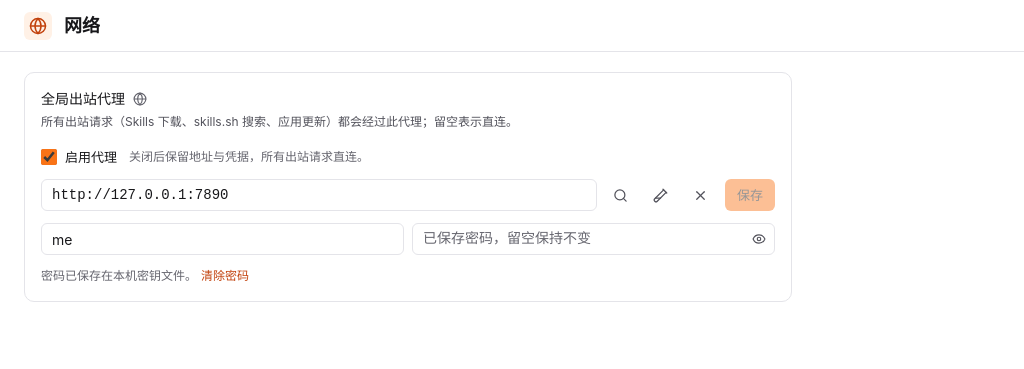
Test: loads the saved proxy and keeps the stored password when saving
Expected: the field named "用户名（可选）" holds "me", [41,223,404,255]
Replace the text in the field named "代理地址" with "http://127.0.0.1:7891" at (319, 195), box [41,179,597,211]
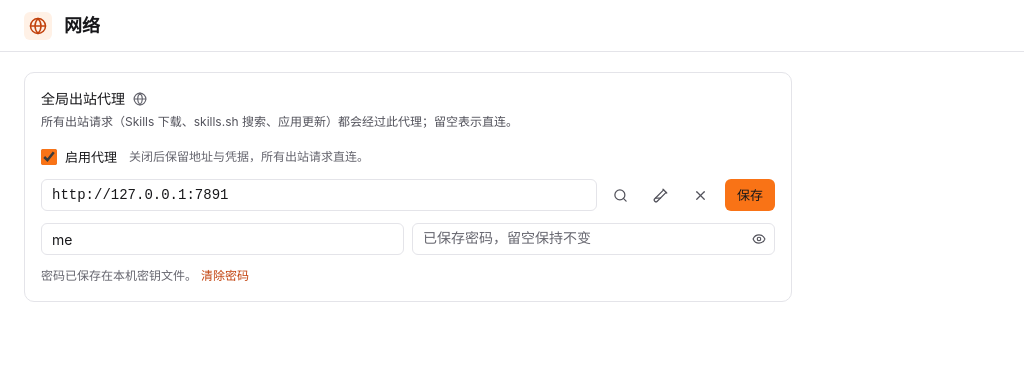
Click the button "保存".
click(750, 195)  # box [725,179,775,211]
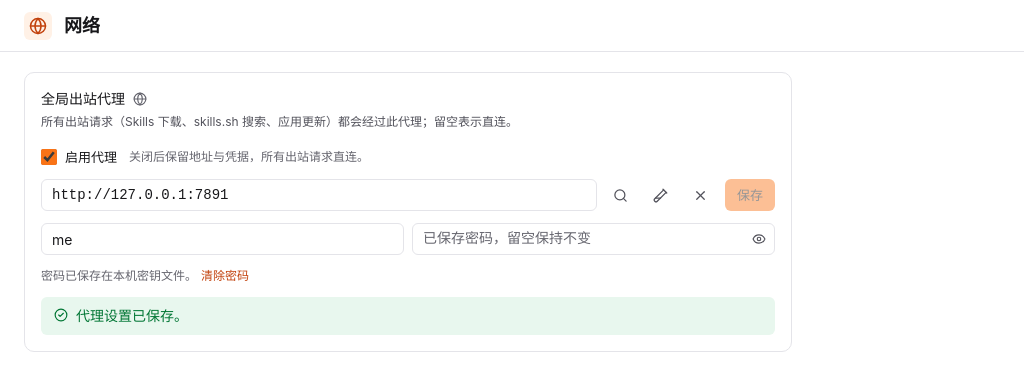
Now the text "代理设置已保存。" is shown, box [76,306,188,326]
